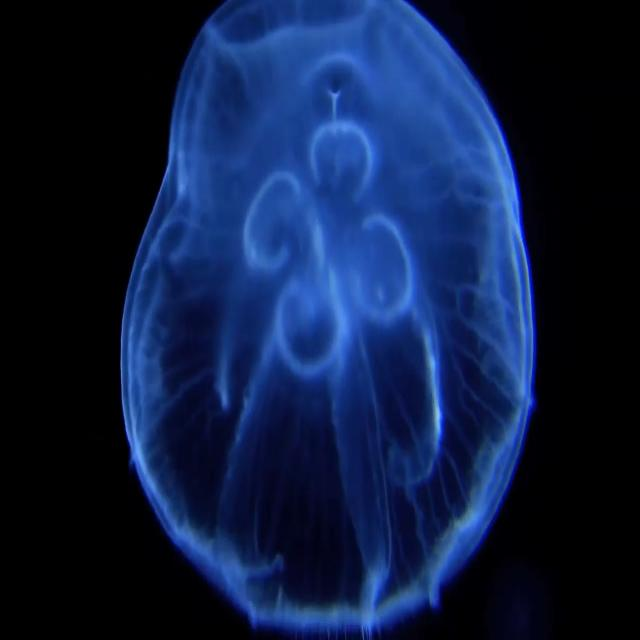Moon-jellyfish: (121, 4, 531, 631)
